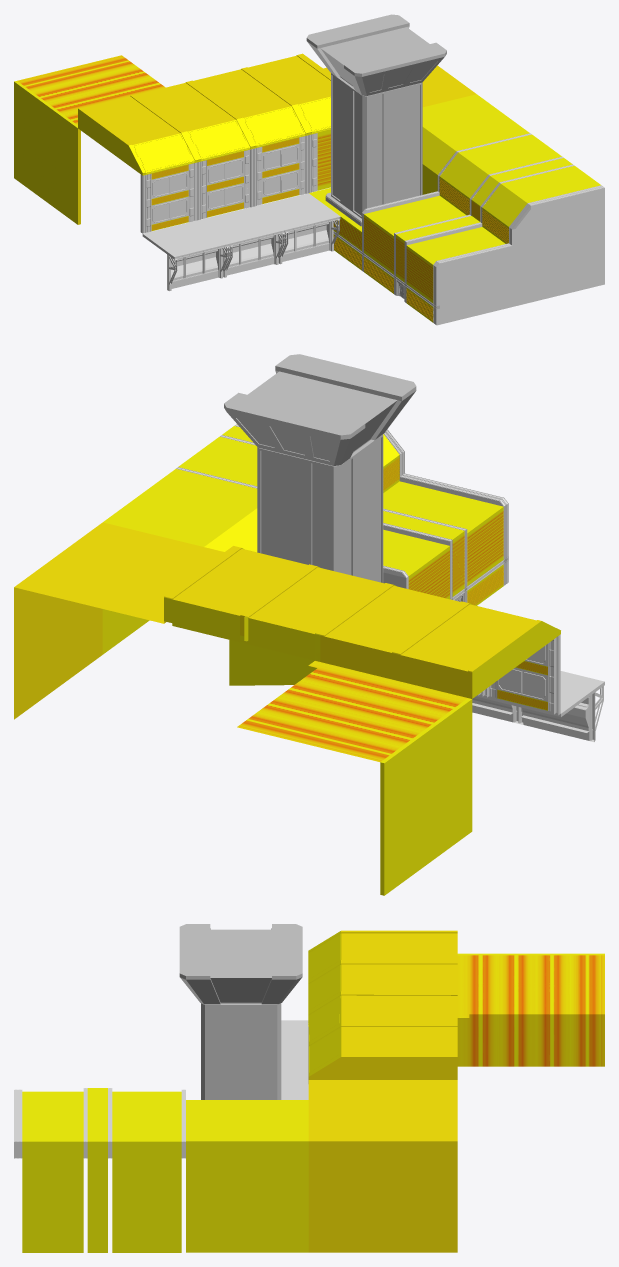
The model's file is ResearchBuilding_2.fbx.
3 views of the same model, one above another, from view 1: azimuth 30°, elevation 25°; view 2: azimuth 150°, elevation 25°; view 3: azimuth 270°, elevation 25° (orthographic). The views are drawn at different scales.
Visible parts, largest first — view 1: wall4a_2x2.003_Cube.020_wall4a_2x2.003_Cube.030; view 2: wall4a_2x2.003_Cube.020_wall4a_2x2.003_Cube.030; view 3: wall4a_2x2.003_Cube.020_wall4a_2x2.003_Cube.030.
Part boxes in pixels (x1,y1,x2,y2): wall4a_2x2.003_Cube.020_wall4a_2x2.003_Cube.030: (14, 14, 604, 325); wall4a_2x2.003_Cube.020_wall4a_2x2.003_Cube.030: (14, 354, 604, 895); wall4a_2x2.003_Cube.020_wall4a_2x2.003_Cube.030: (14, 924, 604, 1252).
Size of the model in its own units: 5432 by 3100 by 7220.
